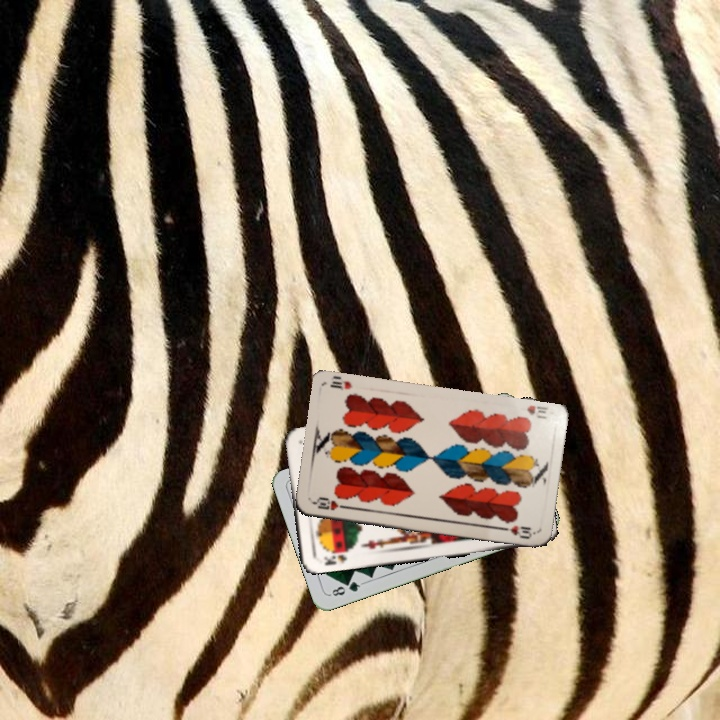G8: (326, 577, 365, 599)
H10: (309, 494, 349, 513), (523, 402, 551, 421)
SK: (319, 545, 353, 568)
